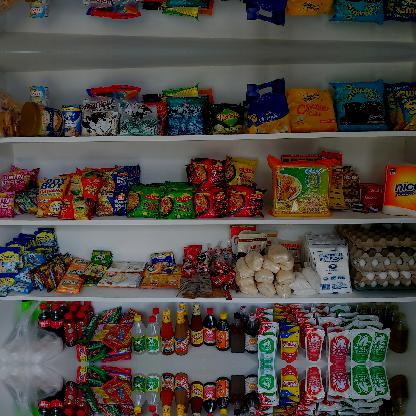Lady-s-Choice: (20, 101, 64, 136)
